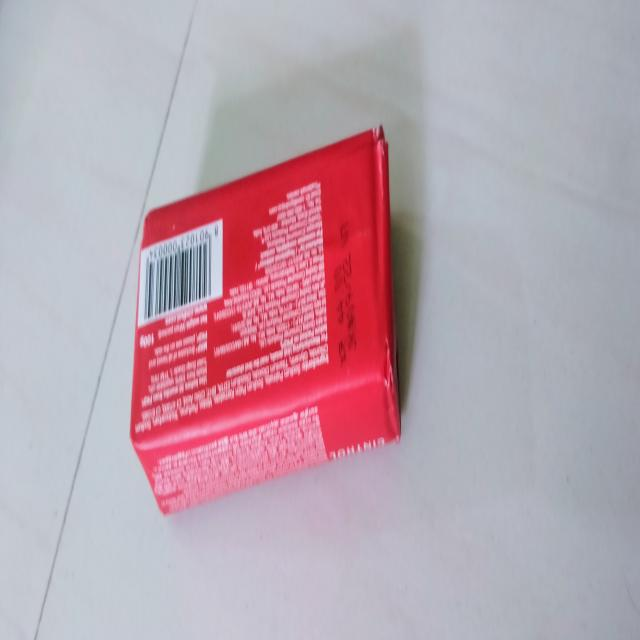soap: (131, 127, 418, 522)
